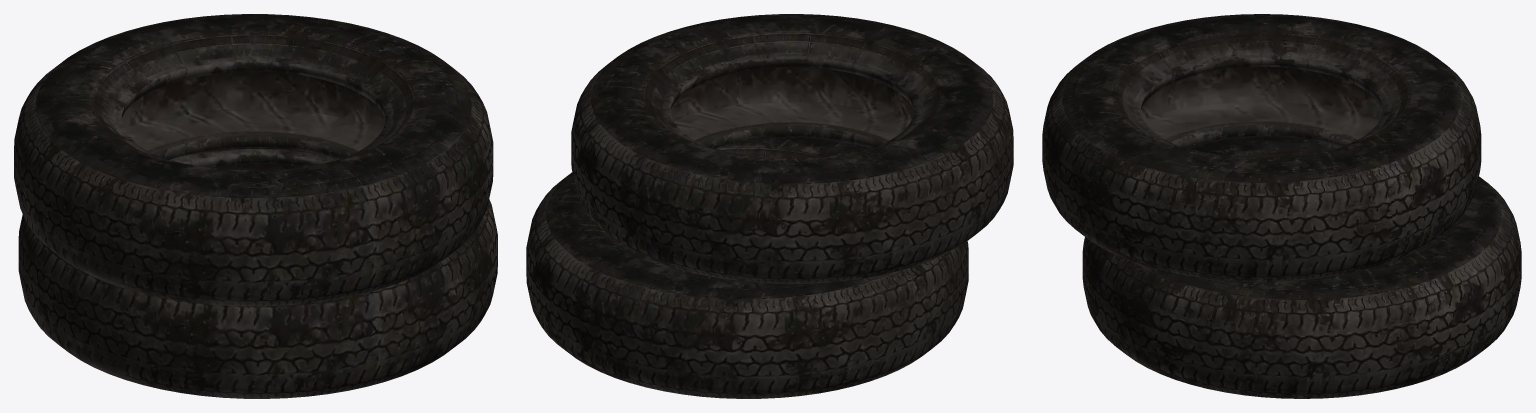
Rendered from car_tires.gltf.
3 renders of one model, left to right at view 1: azimuth 30°, elevation 25°; view 2: azimuth 150°, elevation 25°; view 3: azimuth 270°, elevation 25°, orthographic. The views are drawn at different scales.
Parts seen in each view (by area): view 1: old_tyre.001, old_tyre; view 2: old_tyre.001, old_tyre; view 3: old_tyre.001, old_tyre.
Boxes of the visible parts, left/top/right/bottom form: old_tyre.001: left=14, top=14, right=493, bottom=306; old_tyre: left=18, top=149, right=497, bottom=398; old_tyre.001: left=571, top=14, right=1013, bottom=283; old_tyre: left=526, top=138, right=968, bottom=398; old_tyre.001: left=1042, top=14, right=1481, bottom=281; old_tyre: left=1082, top=137, right=1521, bottom=398.
Bounding box in the file's own units: 0.519 × 0.2632 × 0.5325.
Materials: 1 (1 with a texture image).
